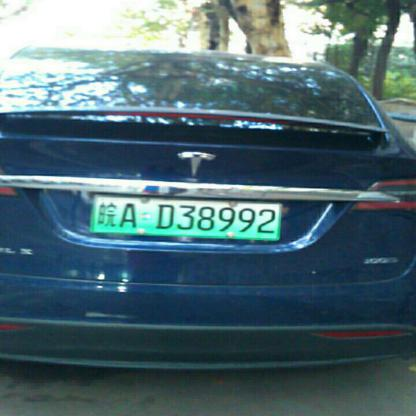lp: (92, 196, 278, 239)
